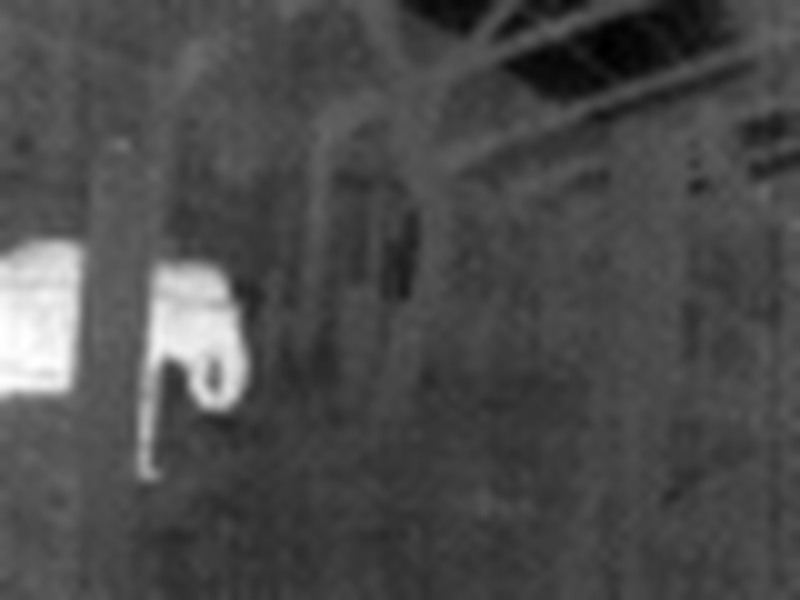elephant: (2, 230, 251, 480)
